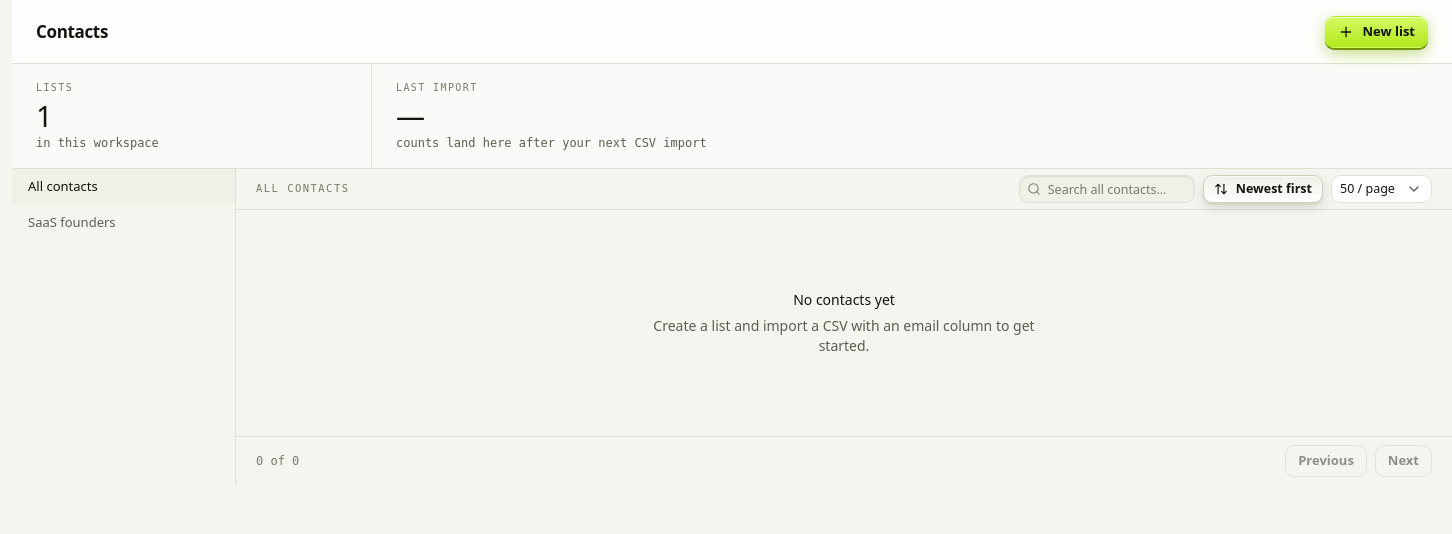
Test case: no contacts at all and no matches for this query are different states
Expected: the text "No contacts yet" is shown, 793,290 -> 895,309
In the search field labelled "Search all contacts…": {"x": 1107, "y": 189} 1019,175 -> 1195,203, type "acme"
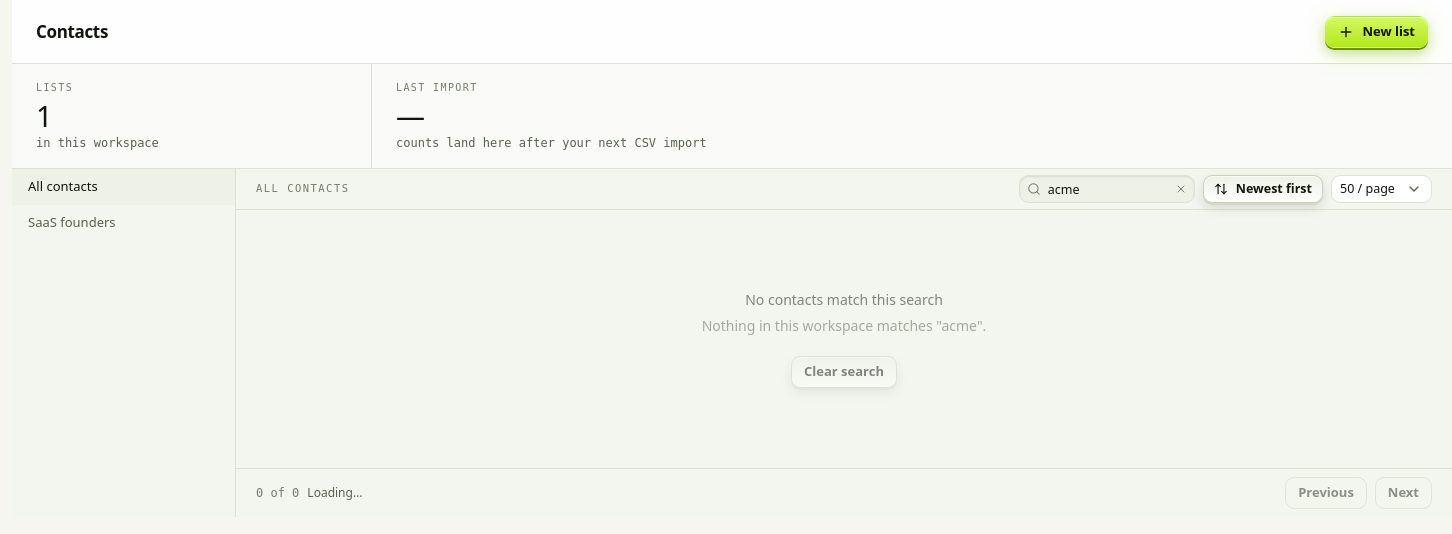
Result: the text "No contacts match this search" is shown at 745,290 -> 943,309
Result: the text "Nothing in this workspace matches \"acme\"." is shown at 702,316 -> 986,335
Click the button with aria-label "Clear search and show all contacts": {"x": 844, "y": 372} 791,356 -> 897,388
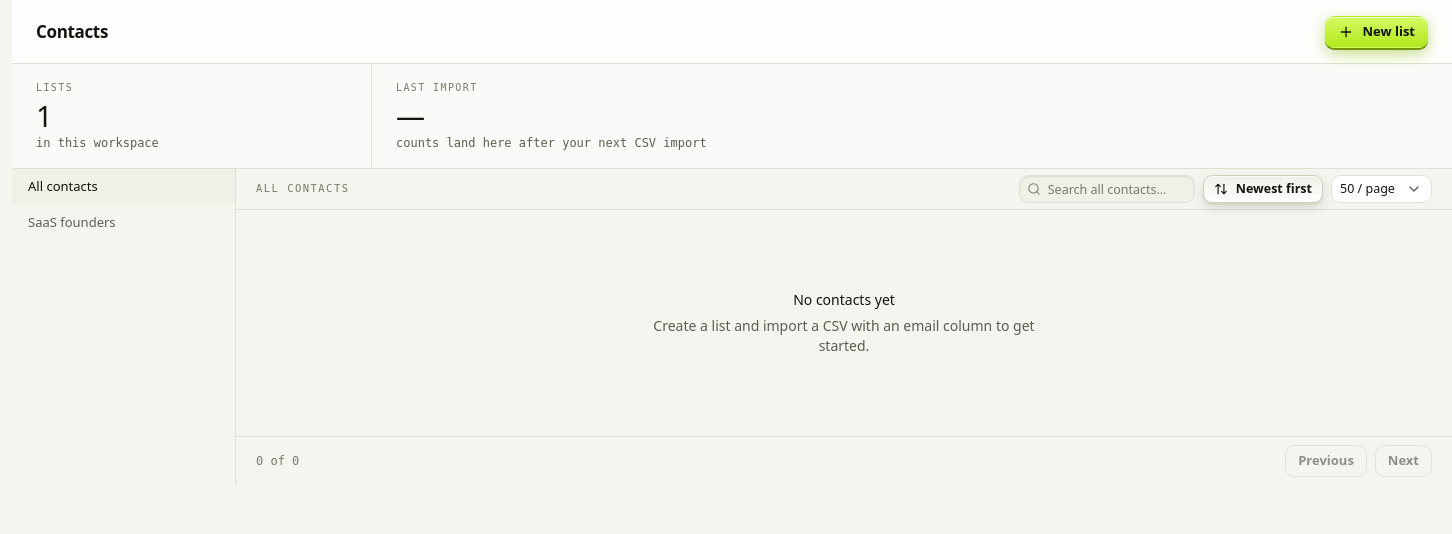
Result: the text "No contacts yet" is shown at 793,290 -> 895,309
